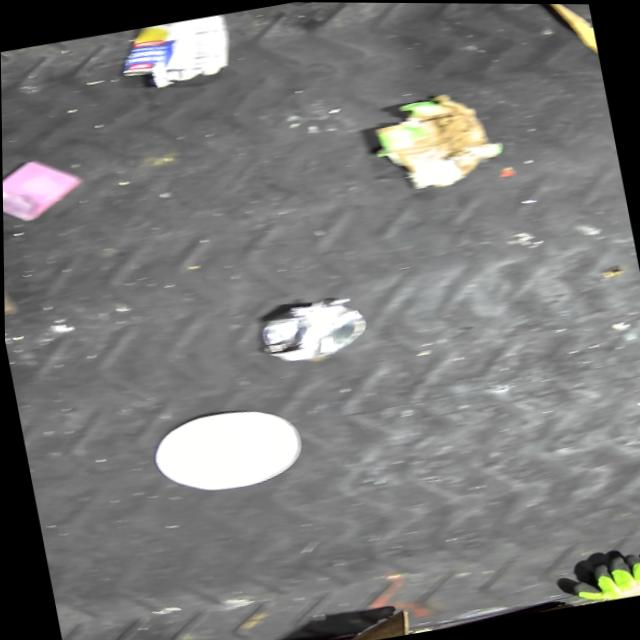can: (252, 291, 369, 368)
